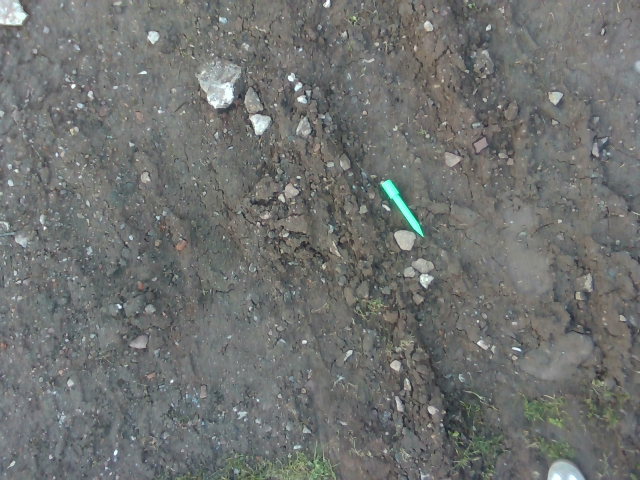Probe: (379, 177, 427, 246)
